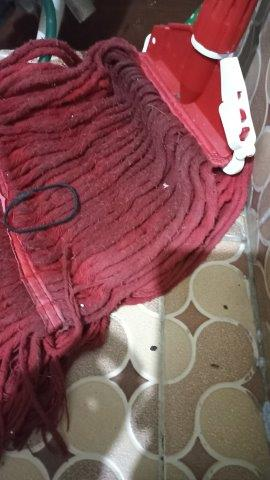karet: (3, 182, 80, 235)
